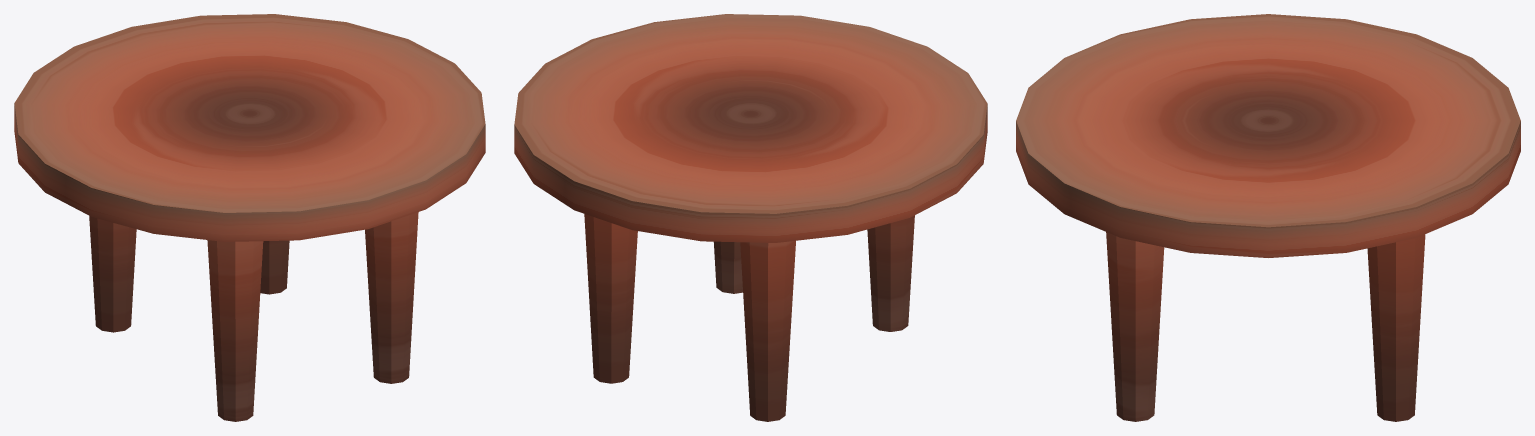
Rendered from Table.fbx.
The picture shows the model from 3 angles, left to right: view 1: azimuth 30°, elevation 25°; view 2: azimuth 150°, elevation 25°; view 3: azimuth 270°, elevation 25°; orthographic projection. The views are drawn at different scales.
Parts seen in each view (by area): view 1: pCylinder19; view 2: pCylinder19; view 3: pCylinder19.
Boxes of the visible parts, box(x1,y1,x2,y2) form: pCylinder19: box(14, 14, 485, 421); pCylinder19: box(514, 14, 987, 421); pCylinder19: box(1016, 14, 1520, 421).
Size of the model in its own units: 592 by 326 by 592.
